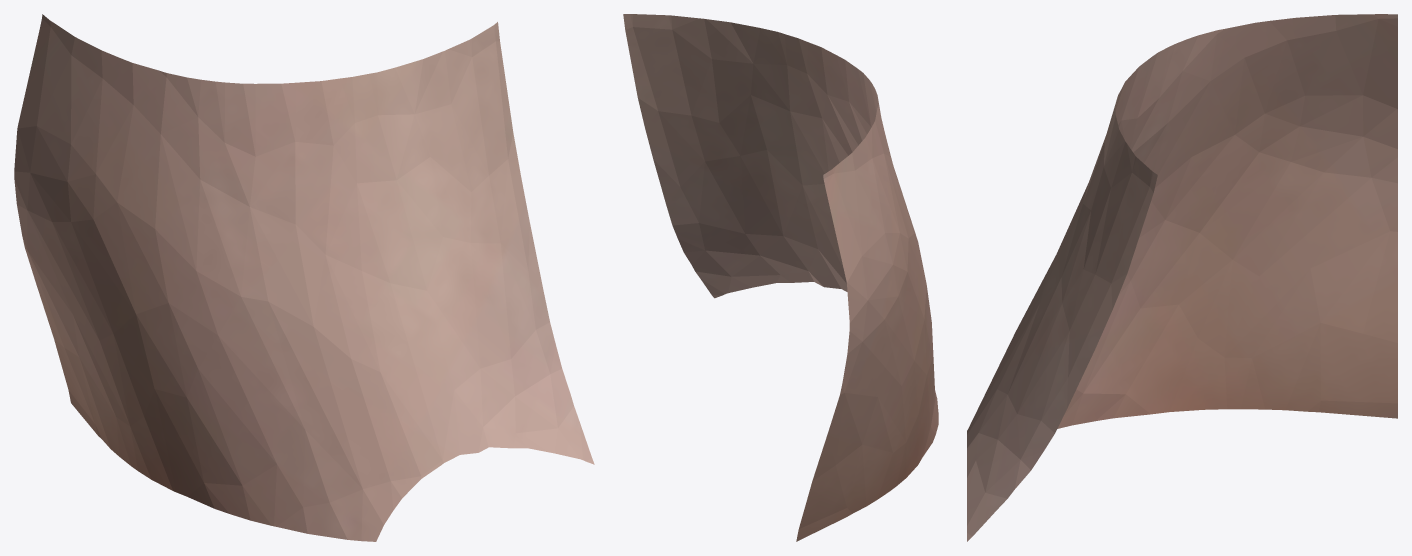
The picture shows the model from 3 angles, left to right: view 1: azimuth 30°, elevation 25°; view 2: azimuth 150°, elevation 25°; view 3: azimuth 270°, elevation 25°; orthographic projection. The views are drawn at different scales.
Visible parts, largest first — view 1: 091_W_Aya_100K_01; view 2: 091_W_Aya_100K_01; view 3: 091_W_Aya_100K_01.
Part boxes in pixels (x1=…): 091_W_Aya_100K_01: x1=14, y1=14, x2=594, y2=541; 091_W_Aya_100K_01: x1=623, y1=14, x2=938, y2=541; 091_W_Aya_100K_01: x1=967, y1=14, x2=1397, y2=541.
Size of the model in its own units: 41.18 by 42.87 by 42.87.
Materials: 1 (1 with a texture image).
